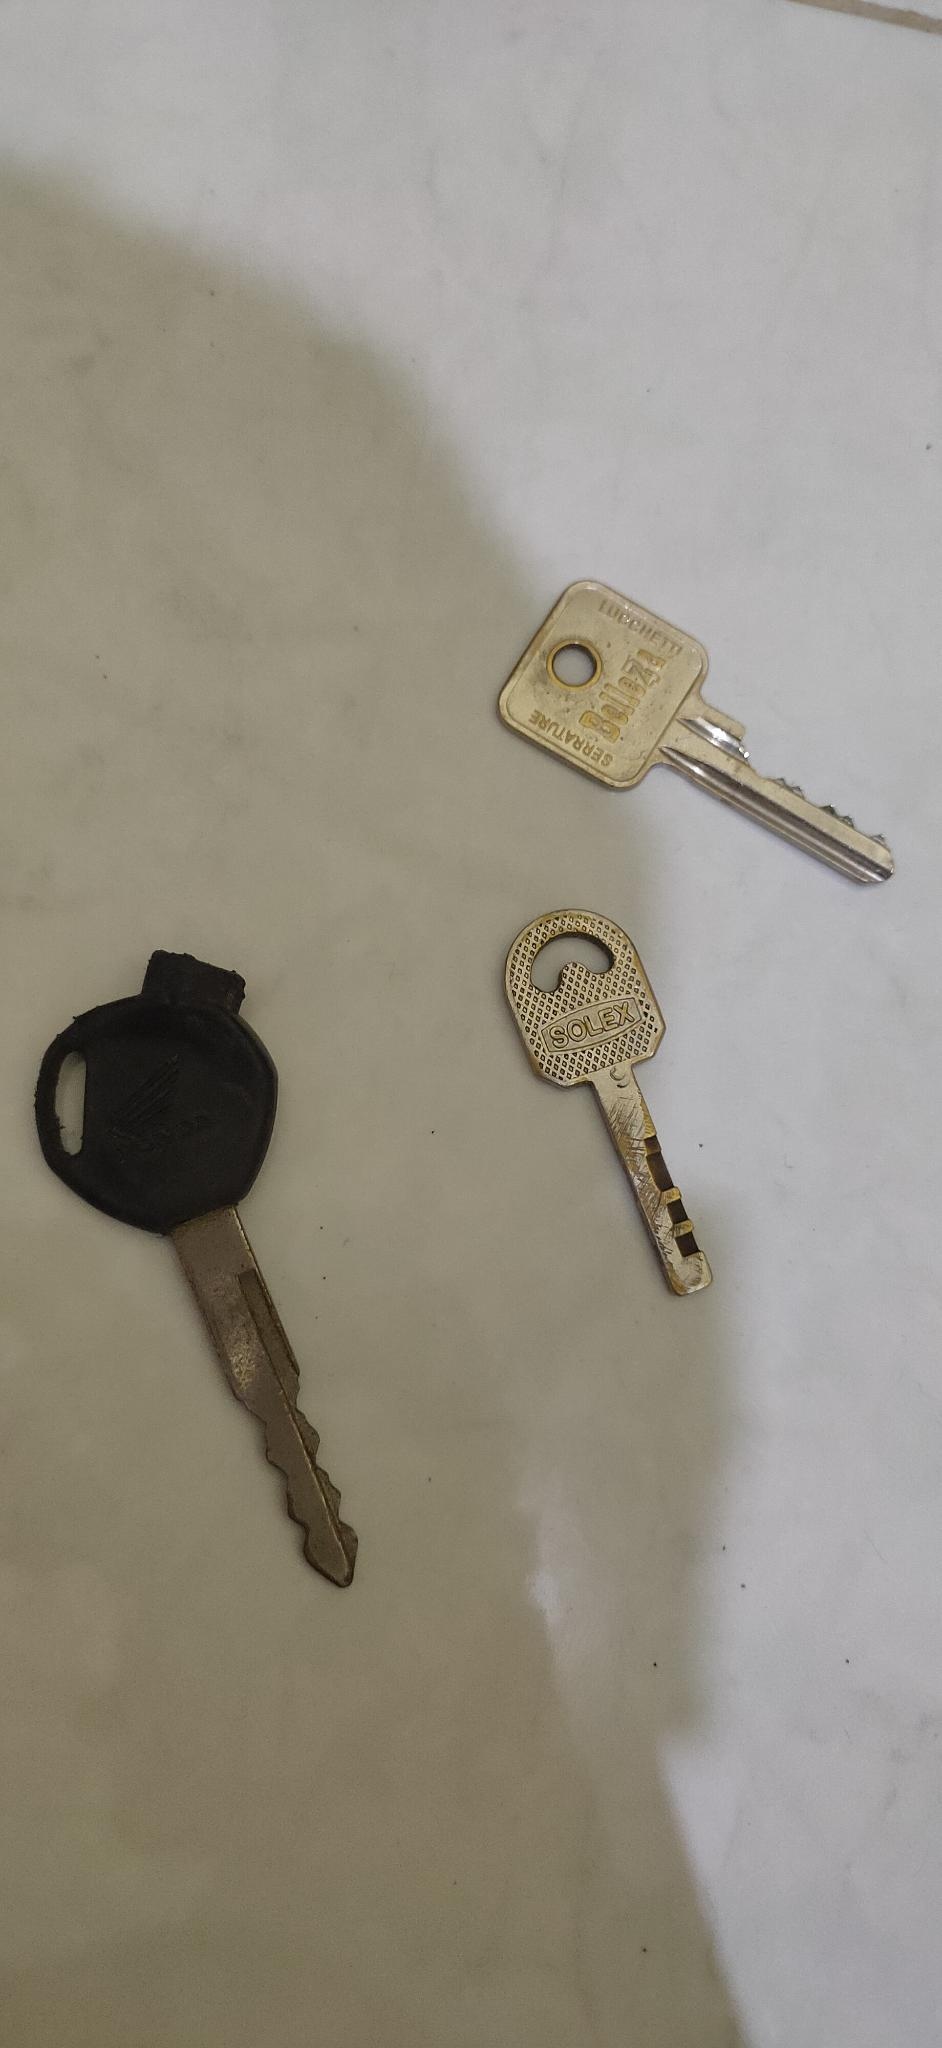keys: (17, 938, 389, 1613), (489, 543, 922, 917), (473, 876, 768, 1310)
